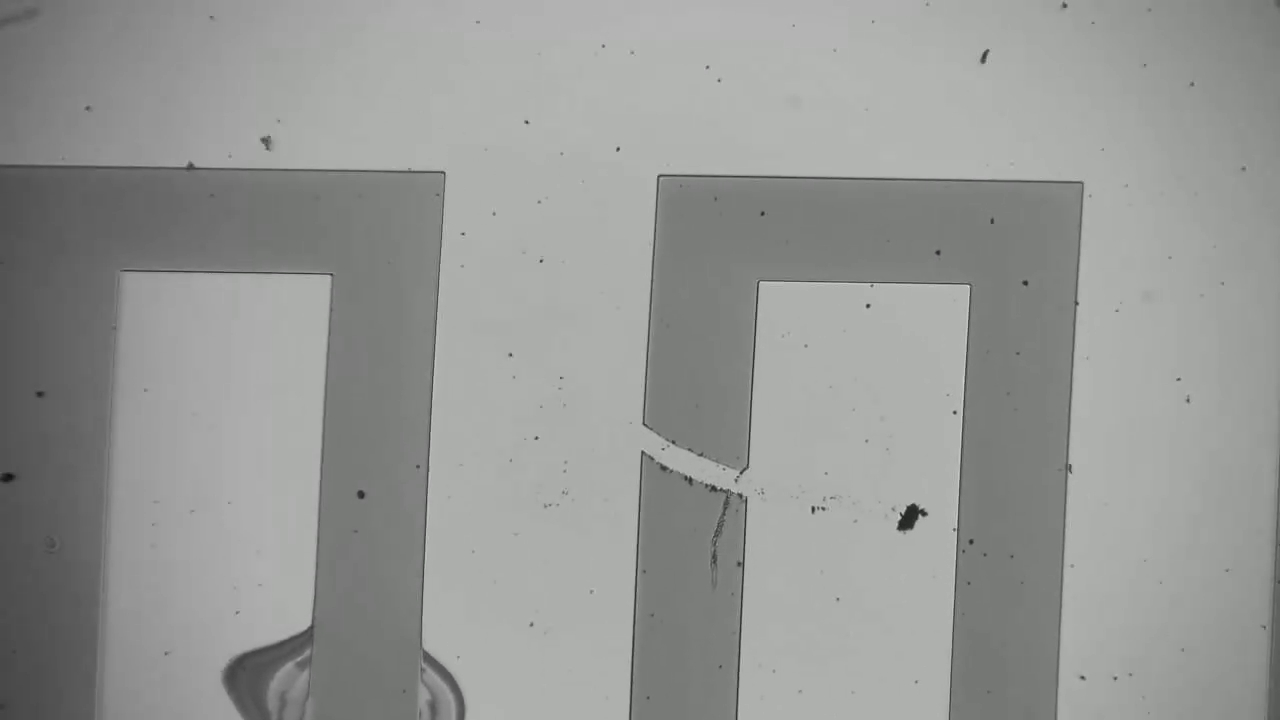Short_circuit: (625, 400, 772, 514)
